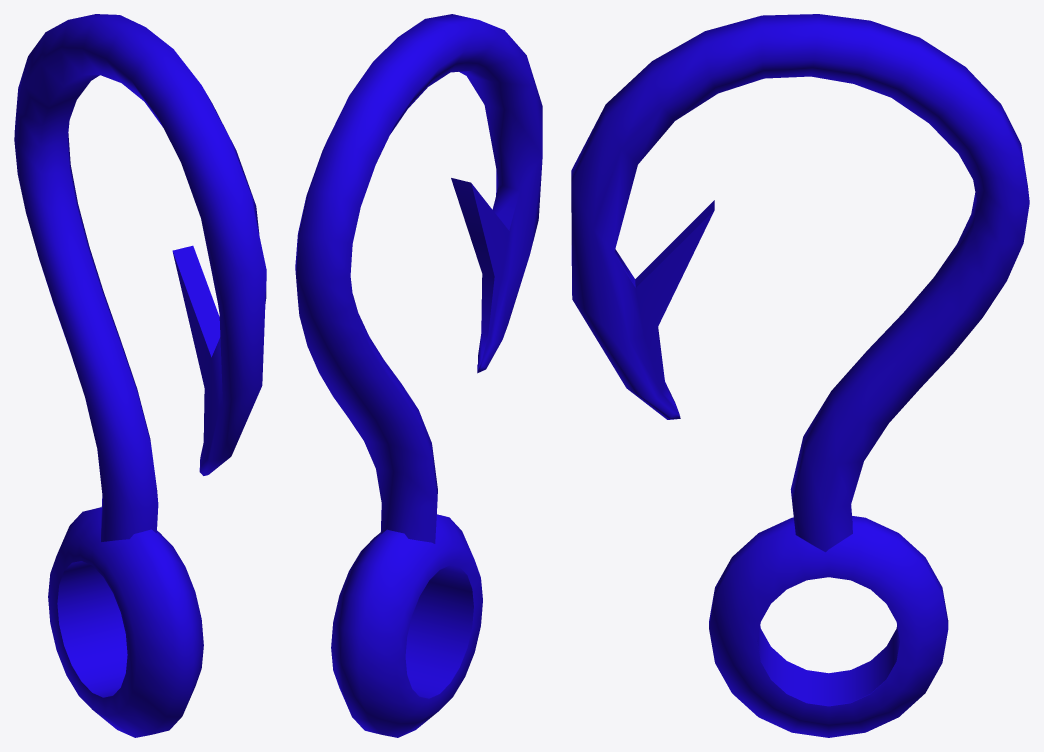
The model's file is Tool_03.fbx.
The picture shows the model from 3 angles, left to right: view 1: azimuth 30°, elevation 25°; view 2: azimuth 150°, elevation 25°; view 3: azimuth 270°, elevation 25°; orthographic projection. The views are drawn at different scales.
Parts seen in each view (by area): view 1: Hook; view 2: Hook; view 3: Hook.
Boxes of the visible parts, x1=… form: Hook: x1=14, y1=14, x2=266, y2=737; Hook: x1=295, y1=14, x2=542, y2=737; Hook: x1=571, y1=14, x2=1029, y2=737.
Size of the model in its own units: 10.33 by 103 by 60.22.
